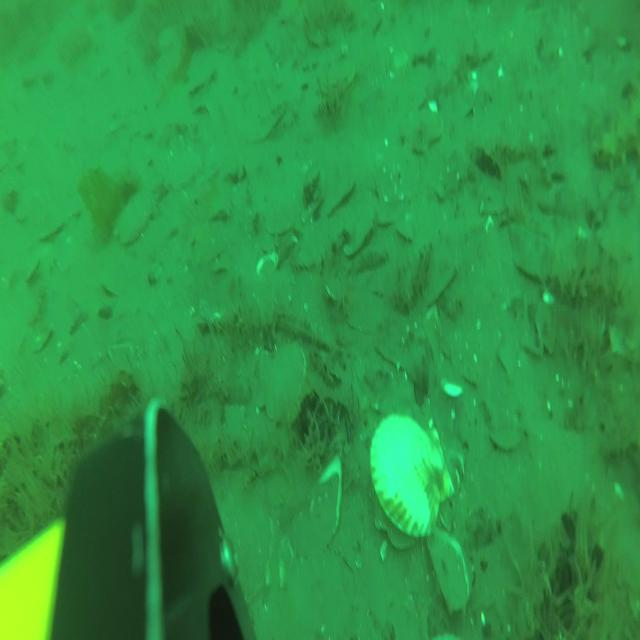holothurian: (590, 99, 640, 177)
scallop: (371, 412, 454, 548), (256, 341, 306, 426), (370, 144, 421, 207), (114, 191, 158, 249), (397, 106, 446, 157), (337, 205, 373, 252), (319, 173, 356, 218), (265, 198, 297, 238), (489, 419, 524, 454), (328, 56, 357, 96), (392, 215, 416, 244), (375, 202, 395, 230), (158, 27, 178, 53)
